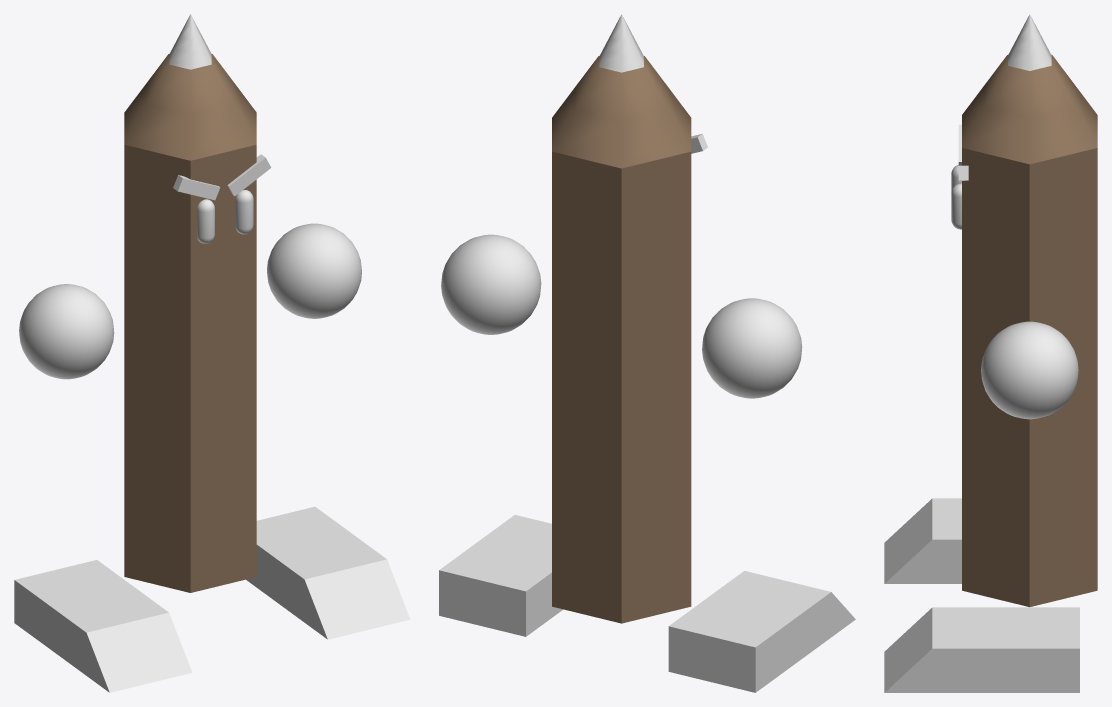
The model's file is 鉛筆人.fbx.
3 views of the same model, side by side, from view 1: azimuth 30°, elevation 25°; view 2: azimuth 150°, elevation 25°; view 3: azimuth 270°, elevation 25° (orthographic). The views are drawn at different scales.
Parts seen in each view (by area): view 1: Cylinder001, 右腳 (×2), 左腳, 右手, Cone001, 左眼, 右眼, 左眉, 右眉; view 2: Cylinder001, 右腳 (×2), 左腳, 右手, Cone001; view 3: Cylinder001, 左腳, 右腳 (×2), Cone001, 左眼.
Boxes of the visible parts, x1,y1,x2,y2 form: Cylinder001: (124,54,256,592); 右腳 (×2): (14,223,361,692); 左腳: (246,506,410,639); 右手: (19,284,114,379); Cone001: (169,14,211,69); 左眼: (235,190,253,234); 右眼: (197,199,214,243); 左眉: (227,154,271,196); 右眉: (173,175,220,200); Cylinder001: (552,56,691,623); 右腳 (×2): (441,234,855,692); 左腳: (439,515,563,636); 右手: (702,298,802,398); Cone001: (599,14,643,72); Cylinder001: (962,55,1097,607); 左腳: (884,607,1079,692); 右腳 (×2): (884,321,1078,583); Cone001: (1008,14,1051,70); 左眼: (951,183,961,229).
Bounding box in the file's own units: 40 × 68.25 × 21.8.
